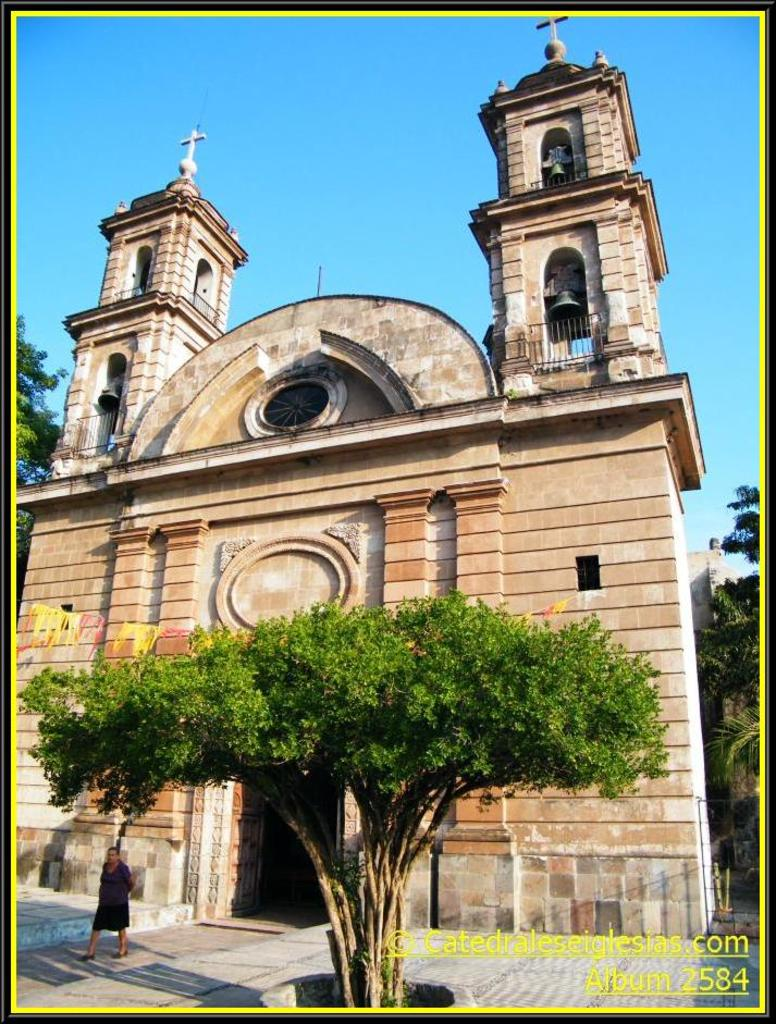Tree: (23, 588, 663, 1003), (680, 467, 769, 877), (0, 300, 66, 549)
